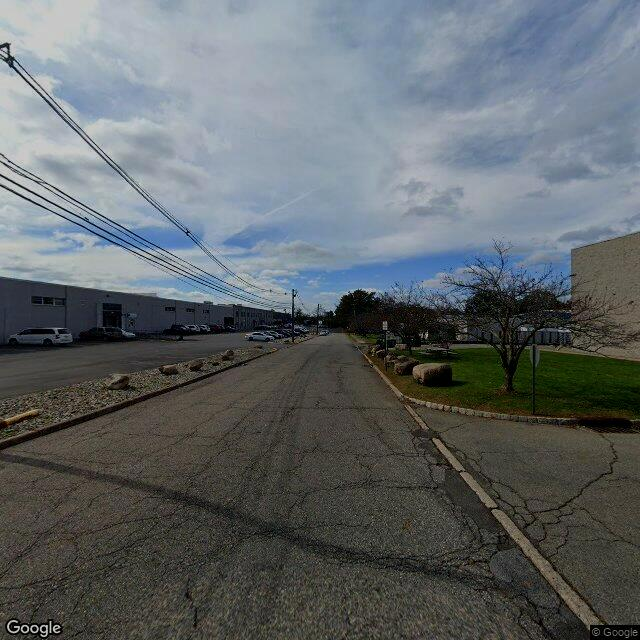pothole: (491, 530, 520, 557), (435, 458, 457, 472)
